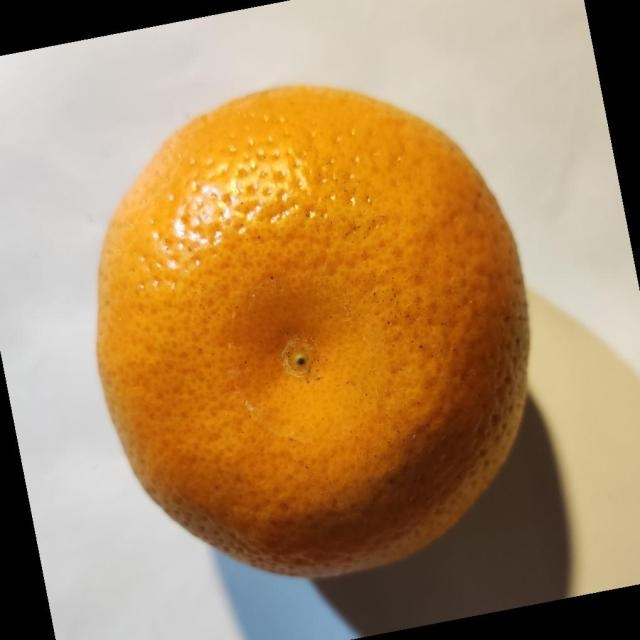agrume: (95, 83, 531, 579)
